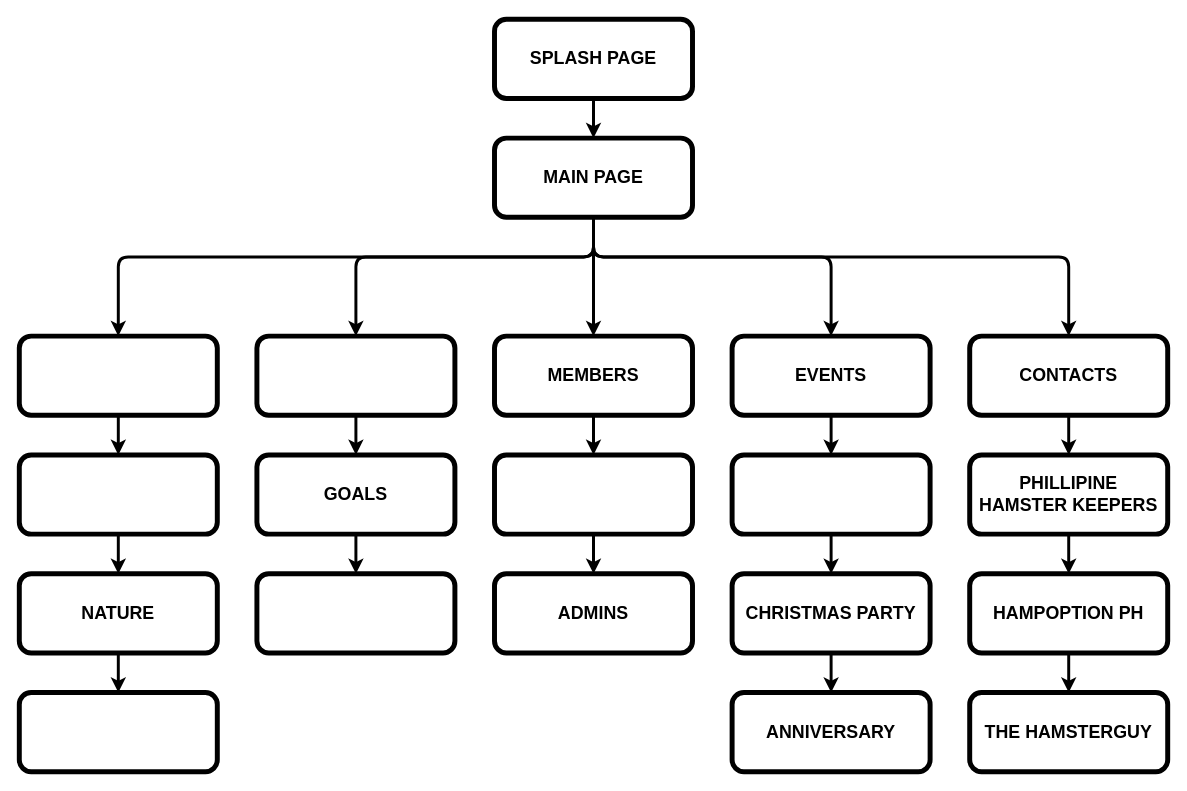
Image size: 1187x791. Some labels were removed from this diagram. The shapes that lost their labels are listed below. From the top down, each one's box as (x1, y1, x2, y2) in pixels, then its label:
(16, 333, 219, 417): ABOUT US
(254, 333, 457, 417): WHAT WE DO?
(16, 452, 219, 536): HISTORY
(492, 452, 694, 536): FOUNDER
(729, 452, 932, 536): CHINA TOWN MALL
(254, 571, 457, 655): CODE OF ETHICS
(16, 690, 219, 774): OBJECTIVES
